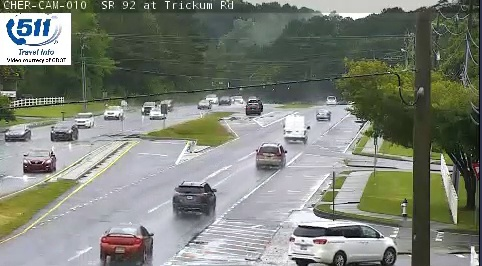car: (99, 226, 153, 257), (173, 181, 215, 213), (256, 145, 285, 166), (316, 109, 332, 122)
van: (284, 115, 306, 140)
